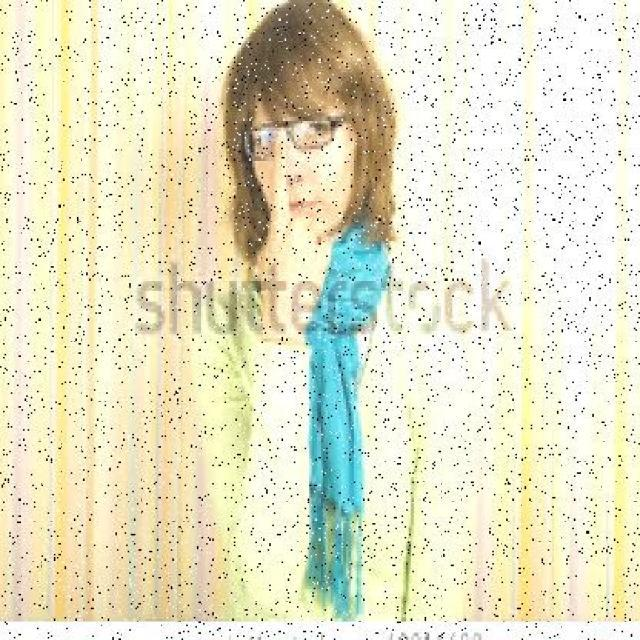glasses: (226, 101, 349, 174)
